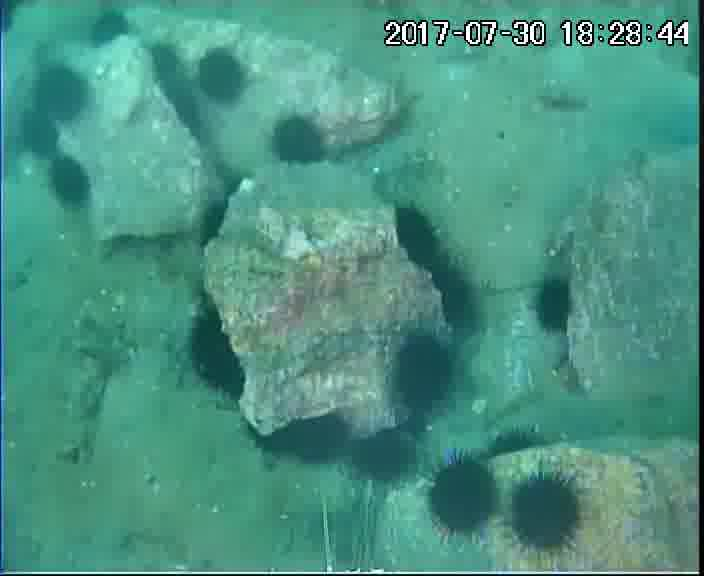echinus: (426, 451, 502, 546), (243, 403, 349, 467), (392, 322, 457, 422), (187, 301, 250, 404), (509, 471, 584, 555), (346, 427, 423, 488), (427, 261, 479, 332), (32, 64, 90, 126), (271, 113, 329, 168), (394, 206, 443, 271), (45, 156, 97, 216), (195, 46, 247, 105), (162, 79, 207, 138), (18, 105, 62, 160), (533, 276, 574, 335), (483, 426, 542, 466), (199, 197, 232, 241), (152, 41, 183, 87), (93, 13, 136, 45)
